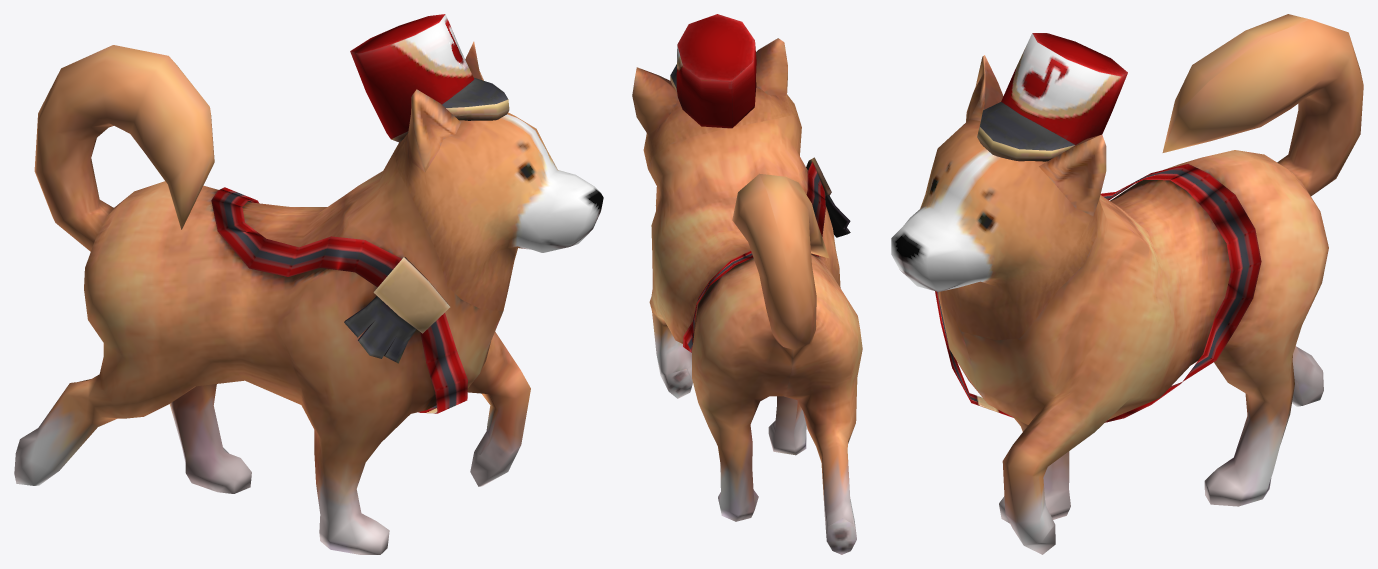
The model's file is dog.dae.
The picture shows the model from 3 angles, left to right: view 1: azimuth 30°, elevation 25°; view 2: azimuth 150°, elevation 25°; view 3: azimuth 270°, elevation 25°; orthographic projection. The views are drawn at different scales.
Visible parts, largest first — view 1: default; view 2: default; view 3: default.
Boxes of the visible parts, x1=… form: default: x1=14, y1=14, x2=603, y2=554; default: x1=632, y1=14, x2=862, y2=554; default: x1=891, y1=14, x2=1363, y2=554.
Bounding box in the file's own units: 0.0263 × 0.031 × 0.0258.
1 material, 1 textured.
